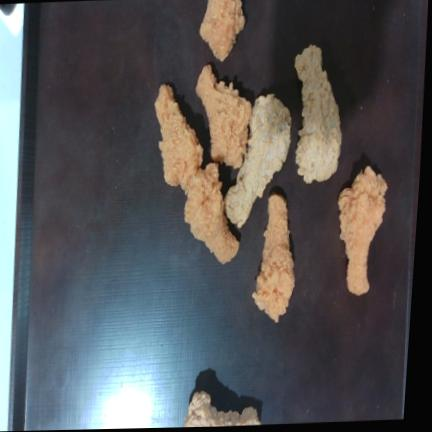chicken: (224, 94, 290, 227), (294, 44, 341, 183), (337, 166, 387, 294), (196, 64, 251, 167), (184, 162, 238, 263), (252, 193, 294, 322), (154, 84, 202, 193), (199, 0, 244, 60)
